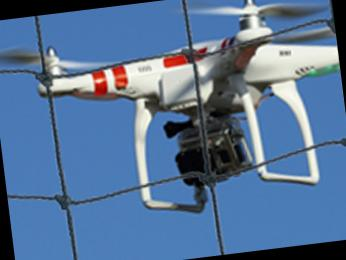drone: (0, 0, 343, 135)
